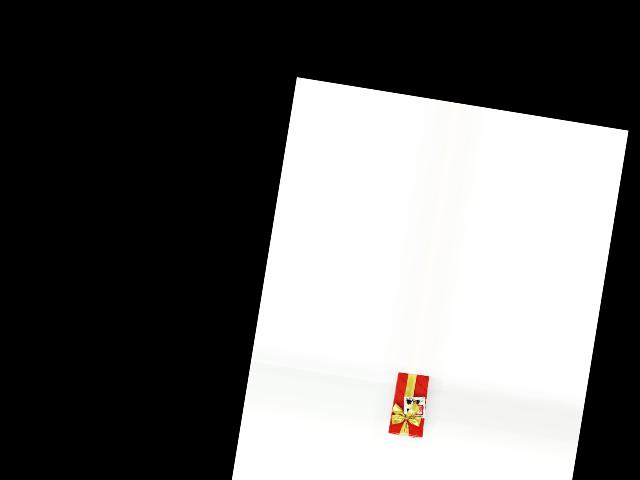chocolate: (385, 371, 431, 440)
